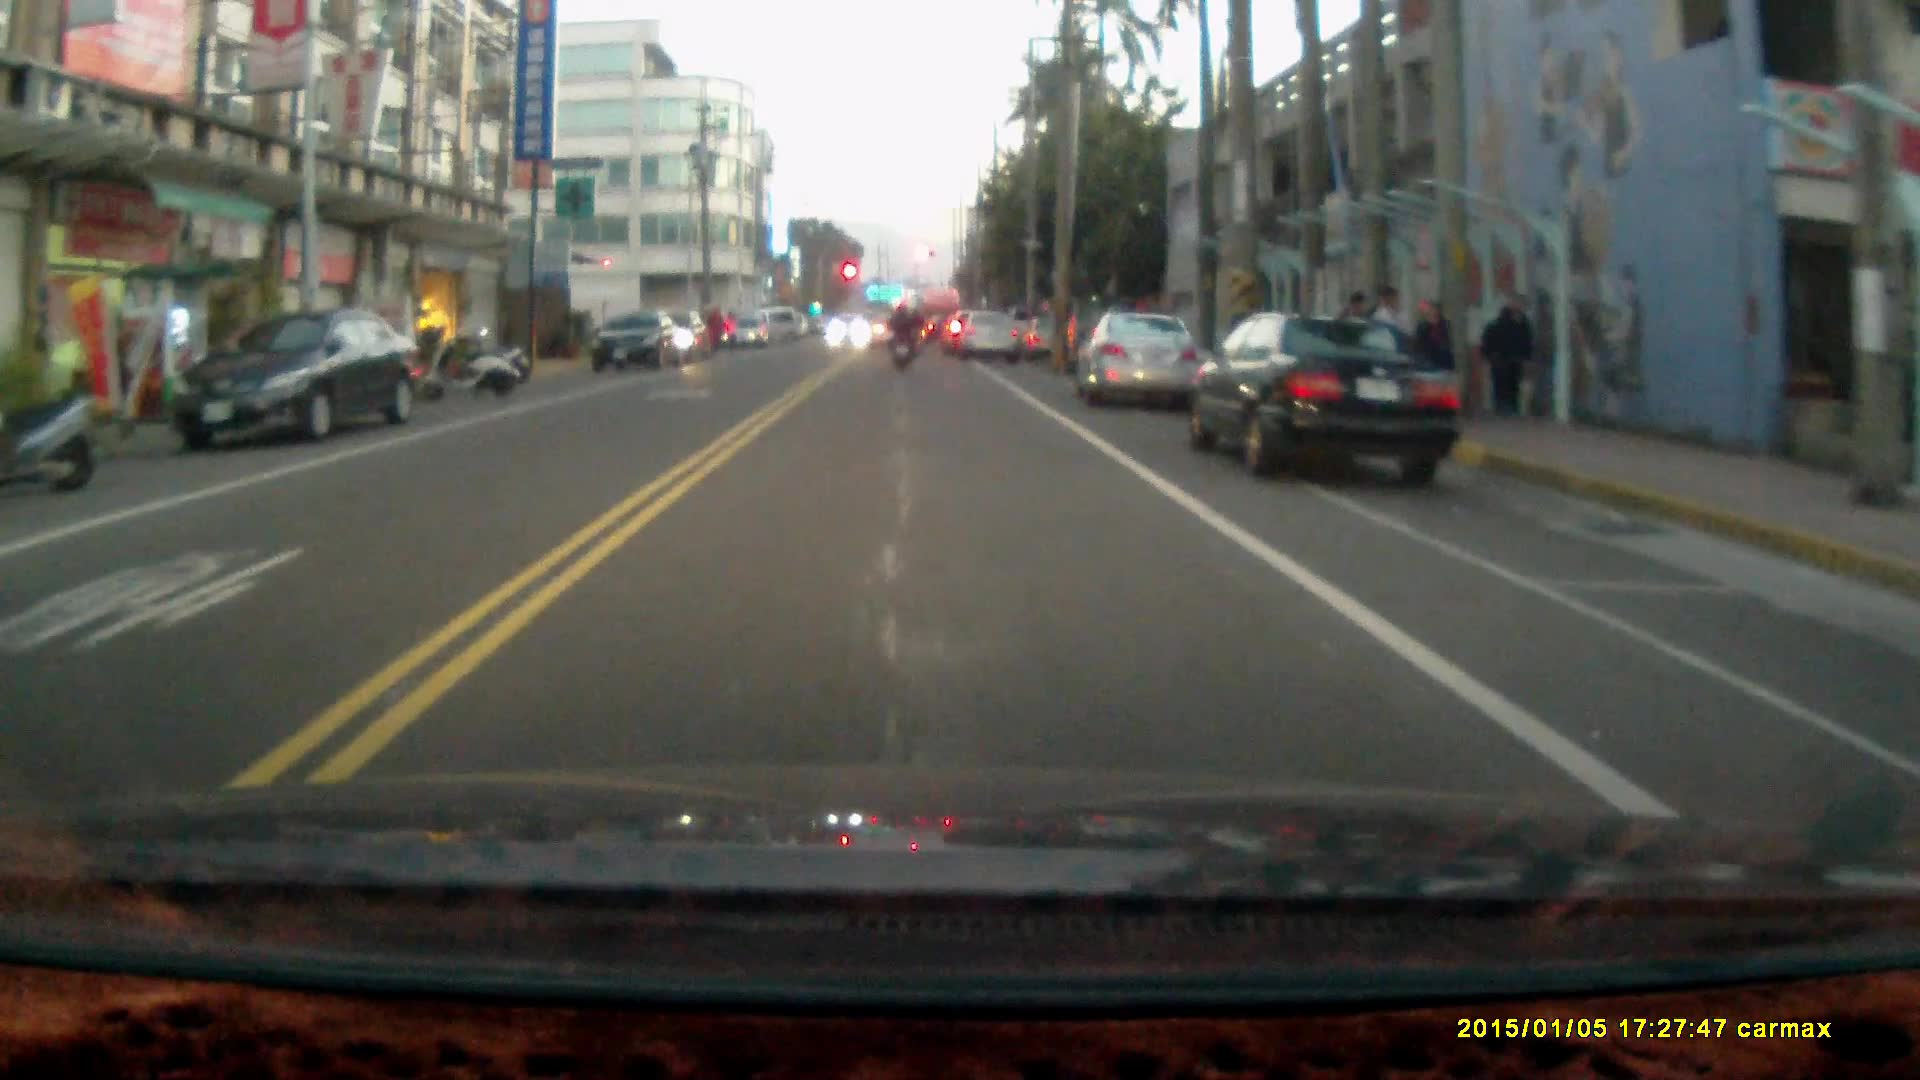pedestrian: (1479, 284, 1535, 415), (1406, 296, 1456, 406), (1370, 284, 1414, 399)
rider: (887, 301, 917, 373)
vehicle: (1181, 295, 1468, 475), (161, 294, 429, 434), (1078, 296, 1207, 400), (593, 310, 696, 369), (966, 301, 1025, 356)
